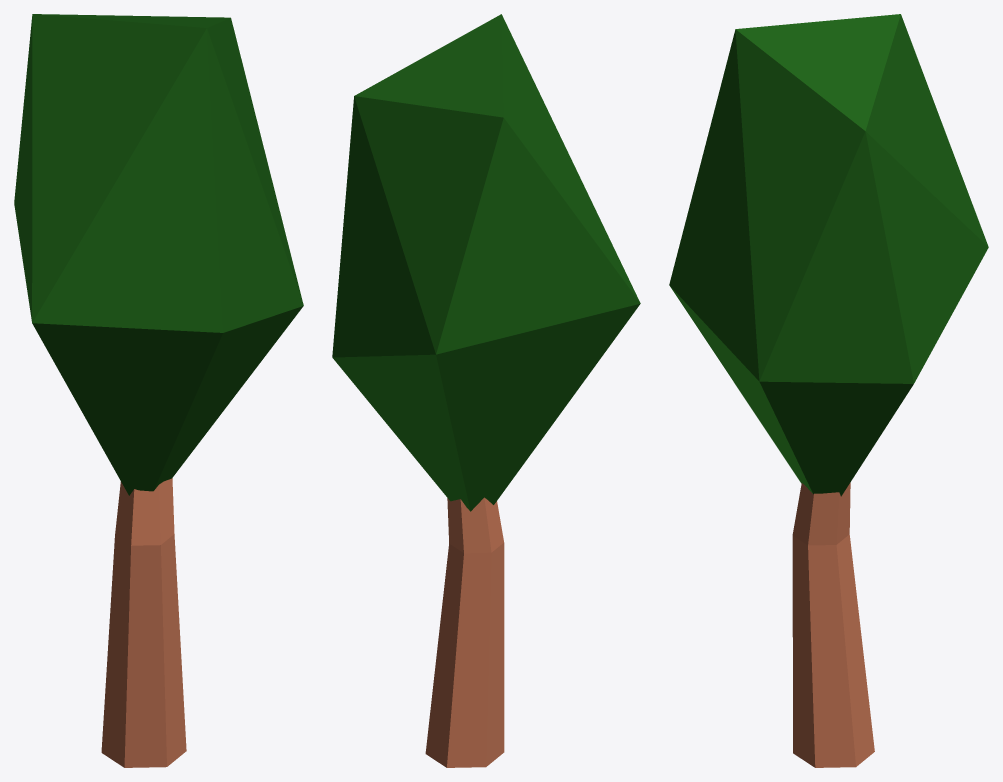
The model's file is Tree_08_summer_mat.fbx.
3 renders of one model, left to right at view 1: azimuth 30°, elevation 25°; view 2: azimuth 150°, elevation 25°; view 3: azimuth 270°, elevation 25°, orthographic. The views are drawn at different scales.
Parts seen in each view (by area): view 1: Tree_08_summer_mat; view 2: Tree_08_summer_mat; view 3: Tree_08_summer_mat.
Boxes of the visible parts, x1,y1,x2,y2 form: Tree_08_summer_mat: (14, 14, 303, 767); Tree_08_summer_mat: (332, 14, 640, 767); Tree_08_summer_mat: (669, 14, 988, 767).
Bounding box in the file's own units: 3.73 × 9.95 × 3.95.
